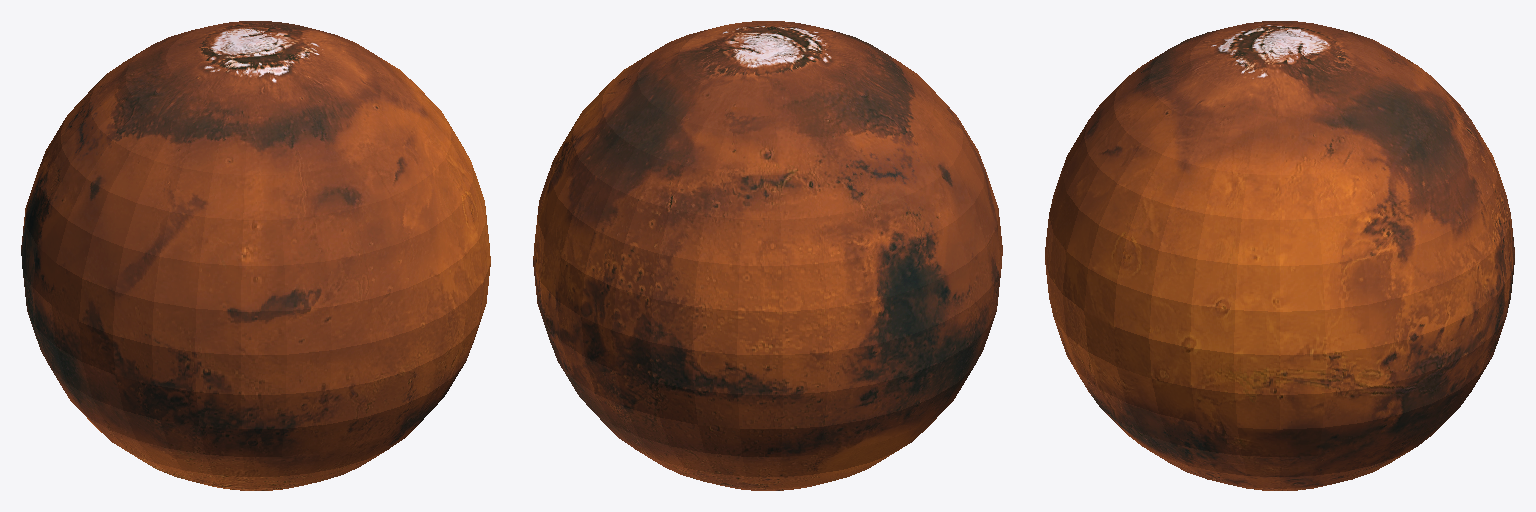
3 renders of one model, left to right at view 1: azimuth 30°, elevation 25°; view 2: azimuth 150°, elevation 25°; view 3: azimuth 270°, elevation 25°, orthographic.
Visible parts, largest first — view 1: Sphere001; view 2: Sphere001; view 3: Sphere001.
Part boxes in pixels (x1,y1,x2,y2): Sphere001: (21,21,490,490); Sphere001: (533,21,1002,490); Sphere001: (1045,21,1514,490).
Size of the model in its own units: 62.99 by 62.99 by 62.99.
Materials: 1 (1 with a texture image).